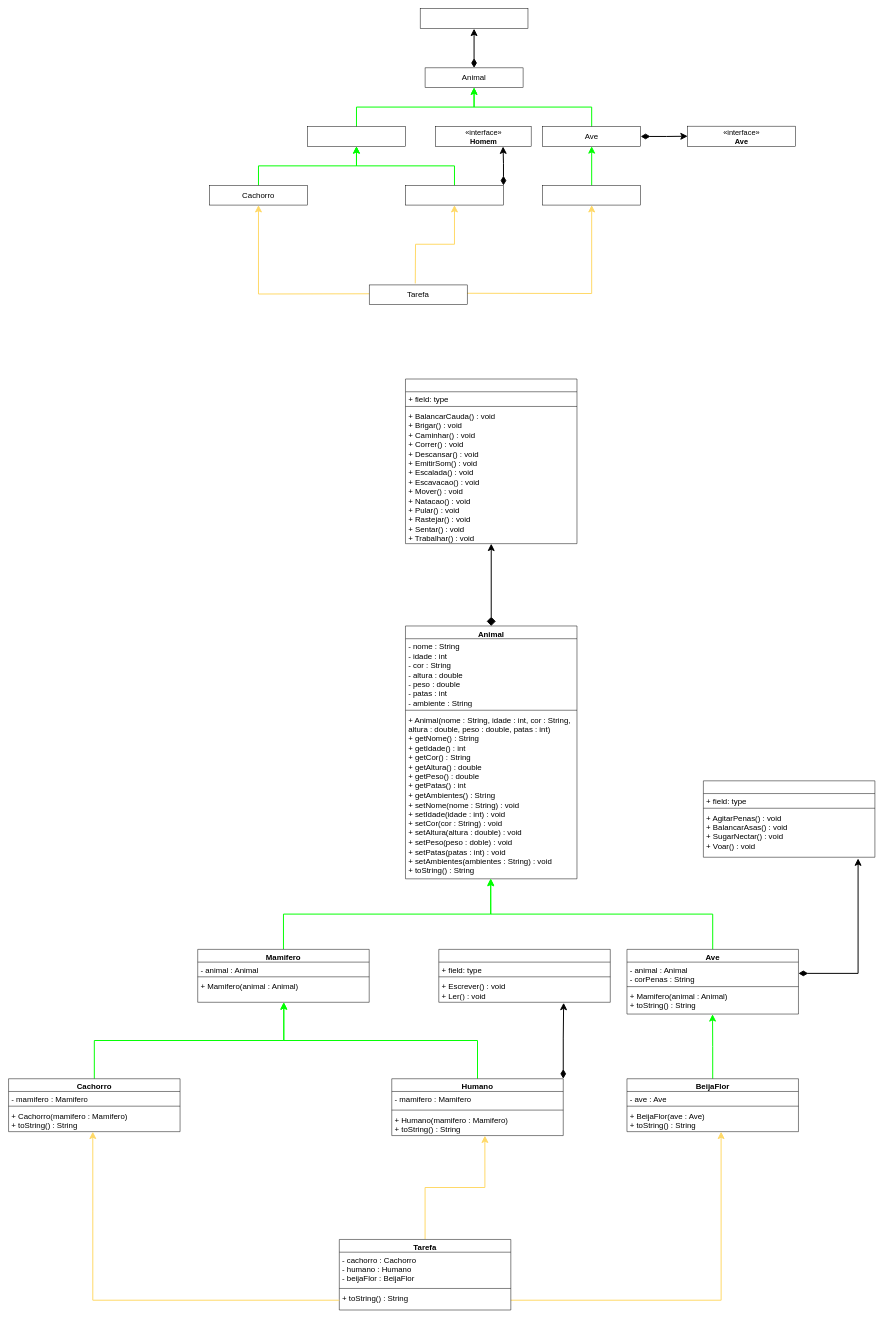
Image size: 883x1320. Some labels were removed from this diagram. Each missing label, with the box of its shape:
< interface > Animal: (405, 379, 577, 544)
< interface > Ave: (703, 780, 875, 857)
< interface > Humano: (438, 949, 610, 1002)
Beija-Flor: (542, 185, 641, 205)
Homem: (405, 185, 503, 205)
Mamífero: (307, 126, 405, 146)
«interface» Animal: (420, 8, 528, 29)
